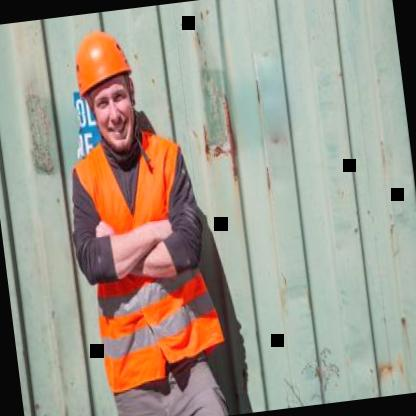helmet: (60, 10, 148, 158)
